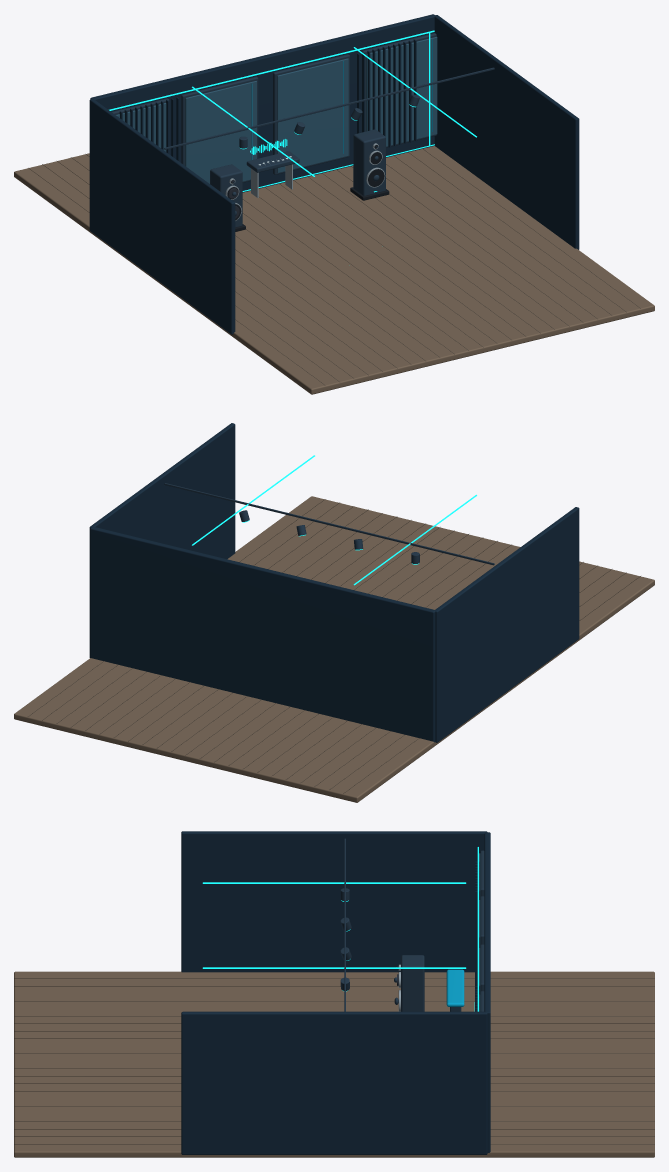
The model's file is tde-animated-studio.glb.
The picture shows the model from 3 angles, top to bottom: view 1: azimuth 30°, elevation 25°; view 2: azimuth 150°, elevation 25°; view 3: azimuth 270°, elevation 25°; orthographic projection. The views are drawn at different scales.
Parts seen in each view (by area): view 1: Sprung dance floor, Left wall, Right wall, Back wall, Tinted studio panel.002, Tinted studio panel.001, Tinted studio panel.003, Speaker cabinet R, Mirror surround.002, Ceiling lighting rail, Speaker cabinet L, Tinted studio panel (+3 smaller); view 2: Sprung dance floor, Back wall, Left wall, Right wall, Ceiling lighting rail; view 3: Sprung dance floor, Right wall, Left wall, Back wall, Speaker cabinet L, Studio bench, Floor board join.003, Floor board join.001, Floor board join, Ceiling light, Ceiling light.001.
Boxes of the visible parts, x1,y1,x2,y2 form: Sprung dance floor: (14, 146, 654, 394); Left wall: (89, 99, 235, 334); Right wall: (434, 15, 579, 249); Back wall: (90, 14, 434, 192); Tinted studio panel.002: (277, 58, 348, 172); Tinted studio panel.001: (185, 81, 256, 183); Tinted studio panel.003: (366, 36, 437, 146); Speaker cabinet R: (353, 129, 385, 195); Mirror surround.002: (273, 54, 349, 174); Ceiling lighting rail: (164, 67, 494, 149); Speaker cabinet L: (210, 164, 242, 227); Tinted studio panel: (116, 103, 166, 151); Sprung dance floor: (14, 496, 654, 802); Back wall: (90, 526, 435, 742); Left wall: (435, 507, 579, 742); Right wall: (89, 423, 235, 657); Ceiling lighting rail: (164, 483, 494, 565); Sprung dance floor: (14, 971, 654, 1157); Right wall: (181, 1011, 487, 1154); Left wall: (181, 831, 487, 972); Back wall: (484, 832, 490, 1152); Speaker cabinet L: (401, 955, 424, 1011); Studio bench: (446, 969, 464, 1006); Floor board join.003: (14, 1001, 654, 1001); Floor board join.001: (14, 986, 654, 986); Floor board join: (14, 978, 654, 978); Ceiling light: (202, 882, 466, 883); Ceiling light.001: (202, 967, 466, 968).
Size of the model in its own units: 12.15 by 4.52 by 18.
